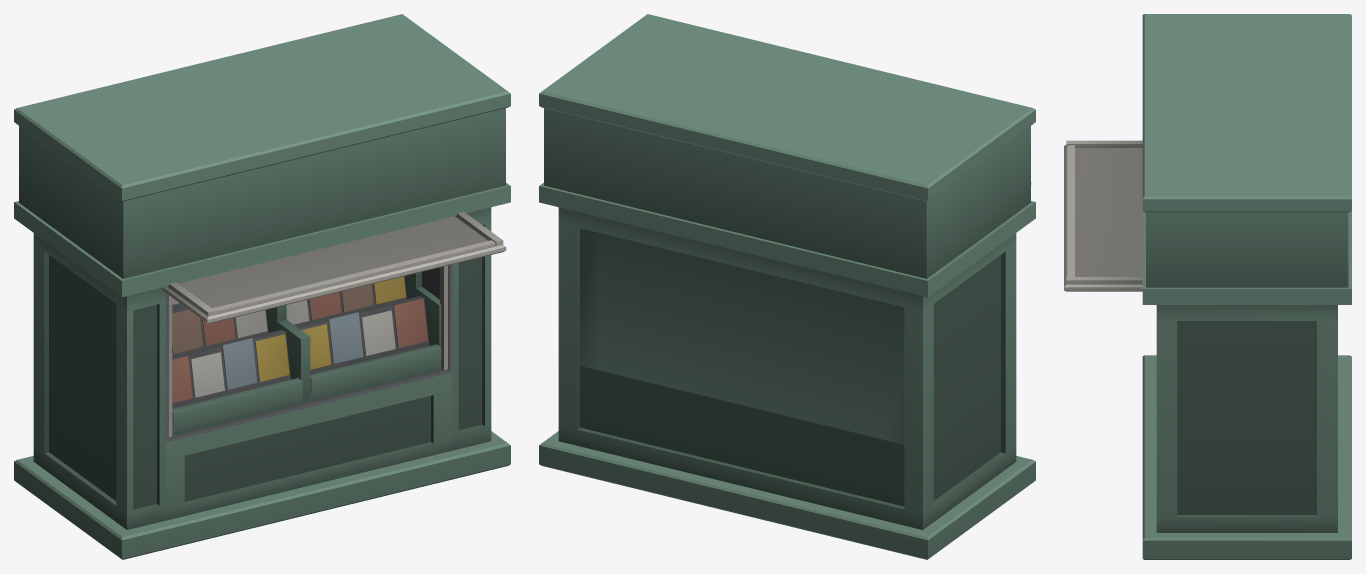
File: newsstand.glb
3 views of the same model, side by side, from view 1: azimuth 30°, elevation 25°; view 2: azimuth 150°, elevation 25°; view 3: azimuth 270°, elevation 25° (orthographic). The views are drawn at different scales.
Parts seen in each view (by area): view 1: newsstand; view 2: newsstand; view 3: newsstand.
Boxes of the visible parts, bbox=[...] form: newsstand: bbox=[14, 14, 510, 559]; newsstand: bbox=[539, 14, 1035, 559]; newsstand: bbox=[1064, 14, 1351, 559].
Bounding box in the file's own units: 2.5 × 2.3 × 1.65.
